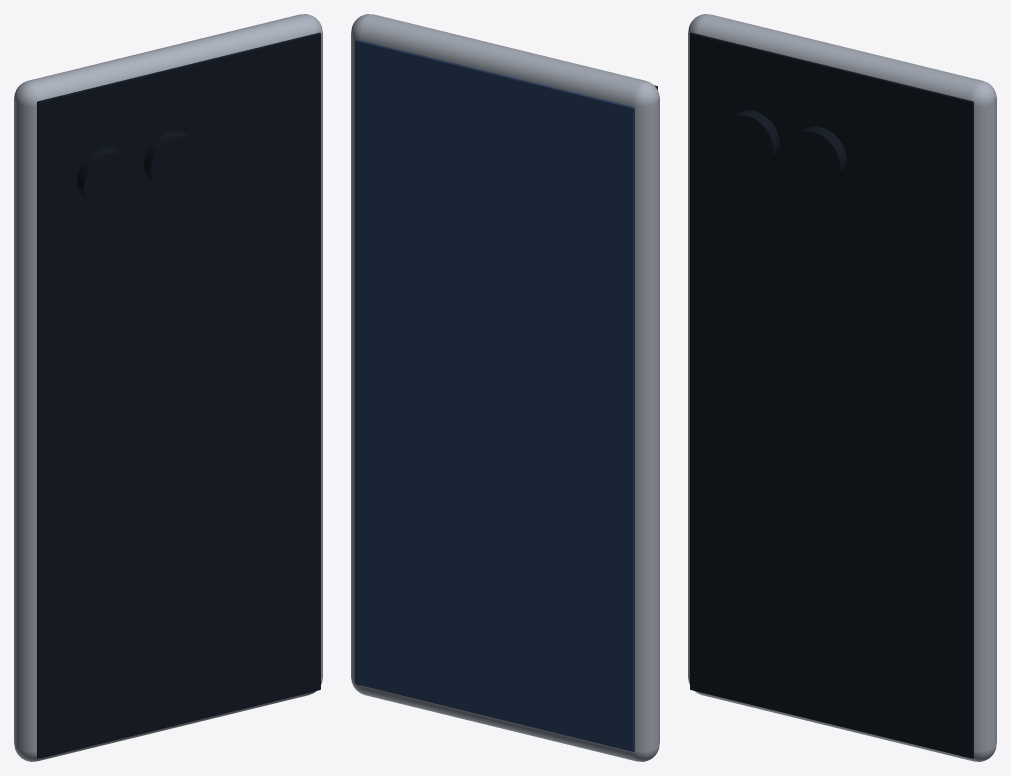
Rendered from iphone.glb.
The picture shows the model from 3 angles, left to right: view 1: azimuth 30°, elevation 25°; view 2: azimuth 150°, elevation 25°; view 3: azimuth 330°, elevation 25°; orthographic projection.
Visible parts, largest first — view 1: rear-window, frame, Sample phone; view 2: front-glass, frame; view 3: rear-window, frame, Sample phone.
Part boxes in pixels (left/top/right/bottom): rear-window: left=37, top=32, right=320, bottom=758; frame: left=14, top=14, right=322, bottom=761; Sample phone: left=77, top=131, right=203, bottom=208; front-glass: left=355, top=39, right=634, bottom=751; frame: left=351, top=14, right=659, bottom=761; rear-window: left=690, top=32, right=973, bottom=758; frame: left=688, top=14, right=996, bottom=761; Sample phone: left=720, top=110, right=846, bottom=187.
Size of the model in its own units: 1.5 by 3.2 by 0.256.
